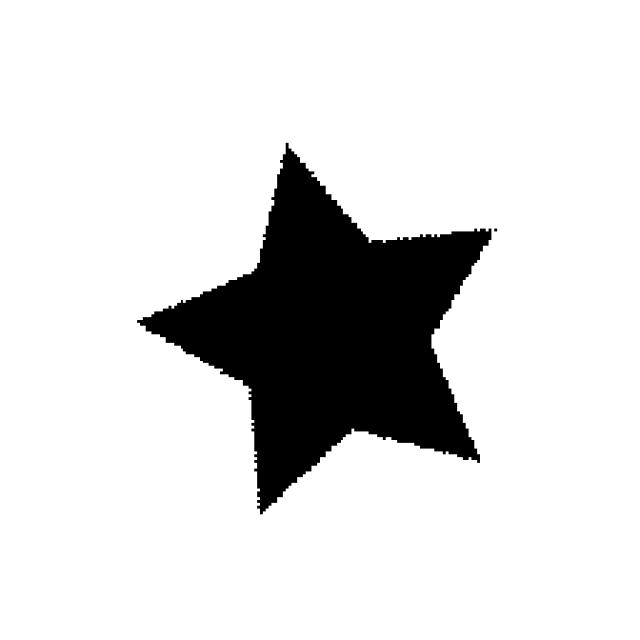Star: (102, 109, 524, 546)
